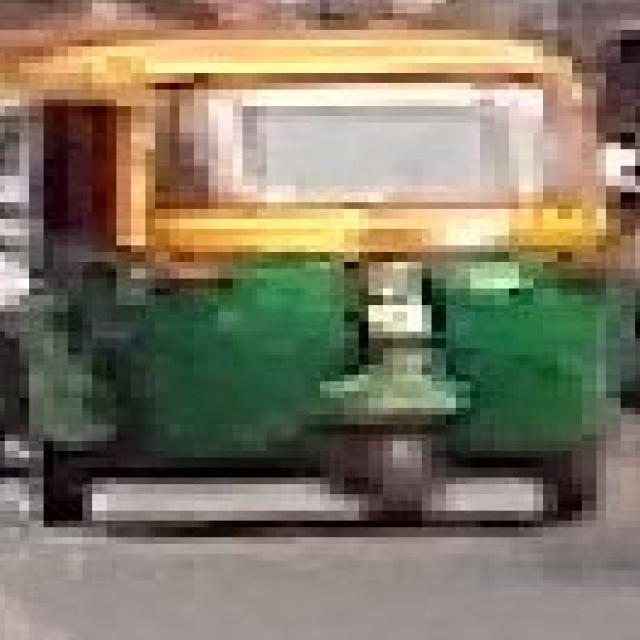autorickshaw: (13, 16, 620, 554)
